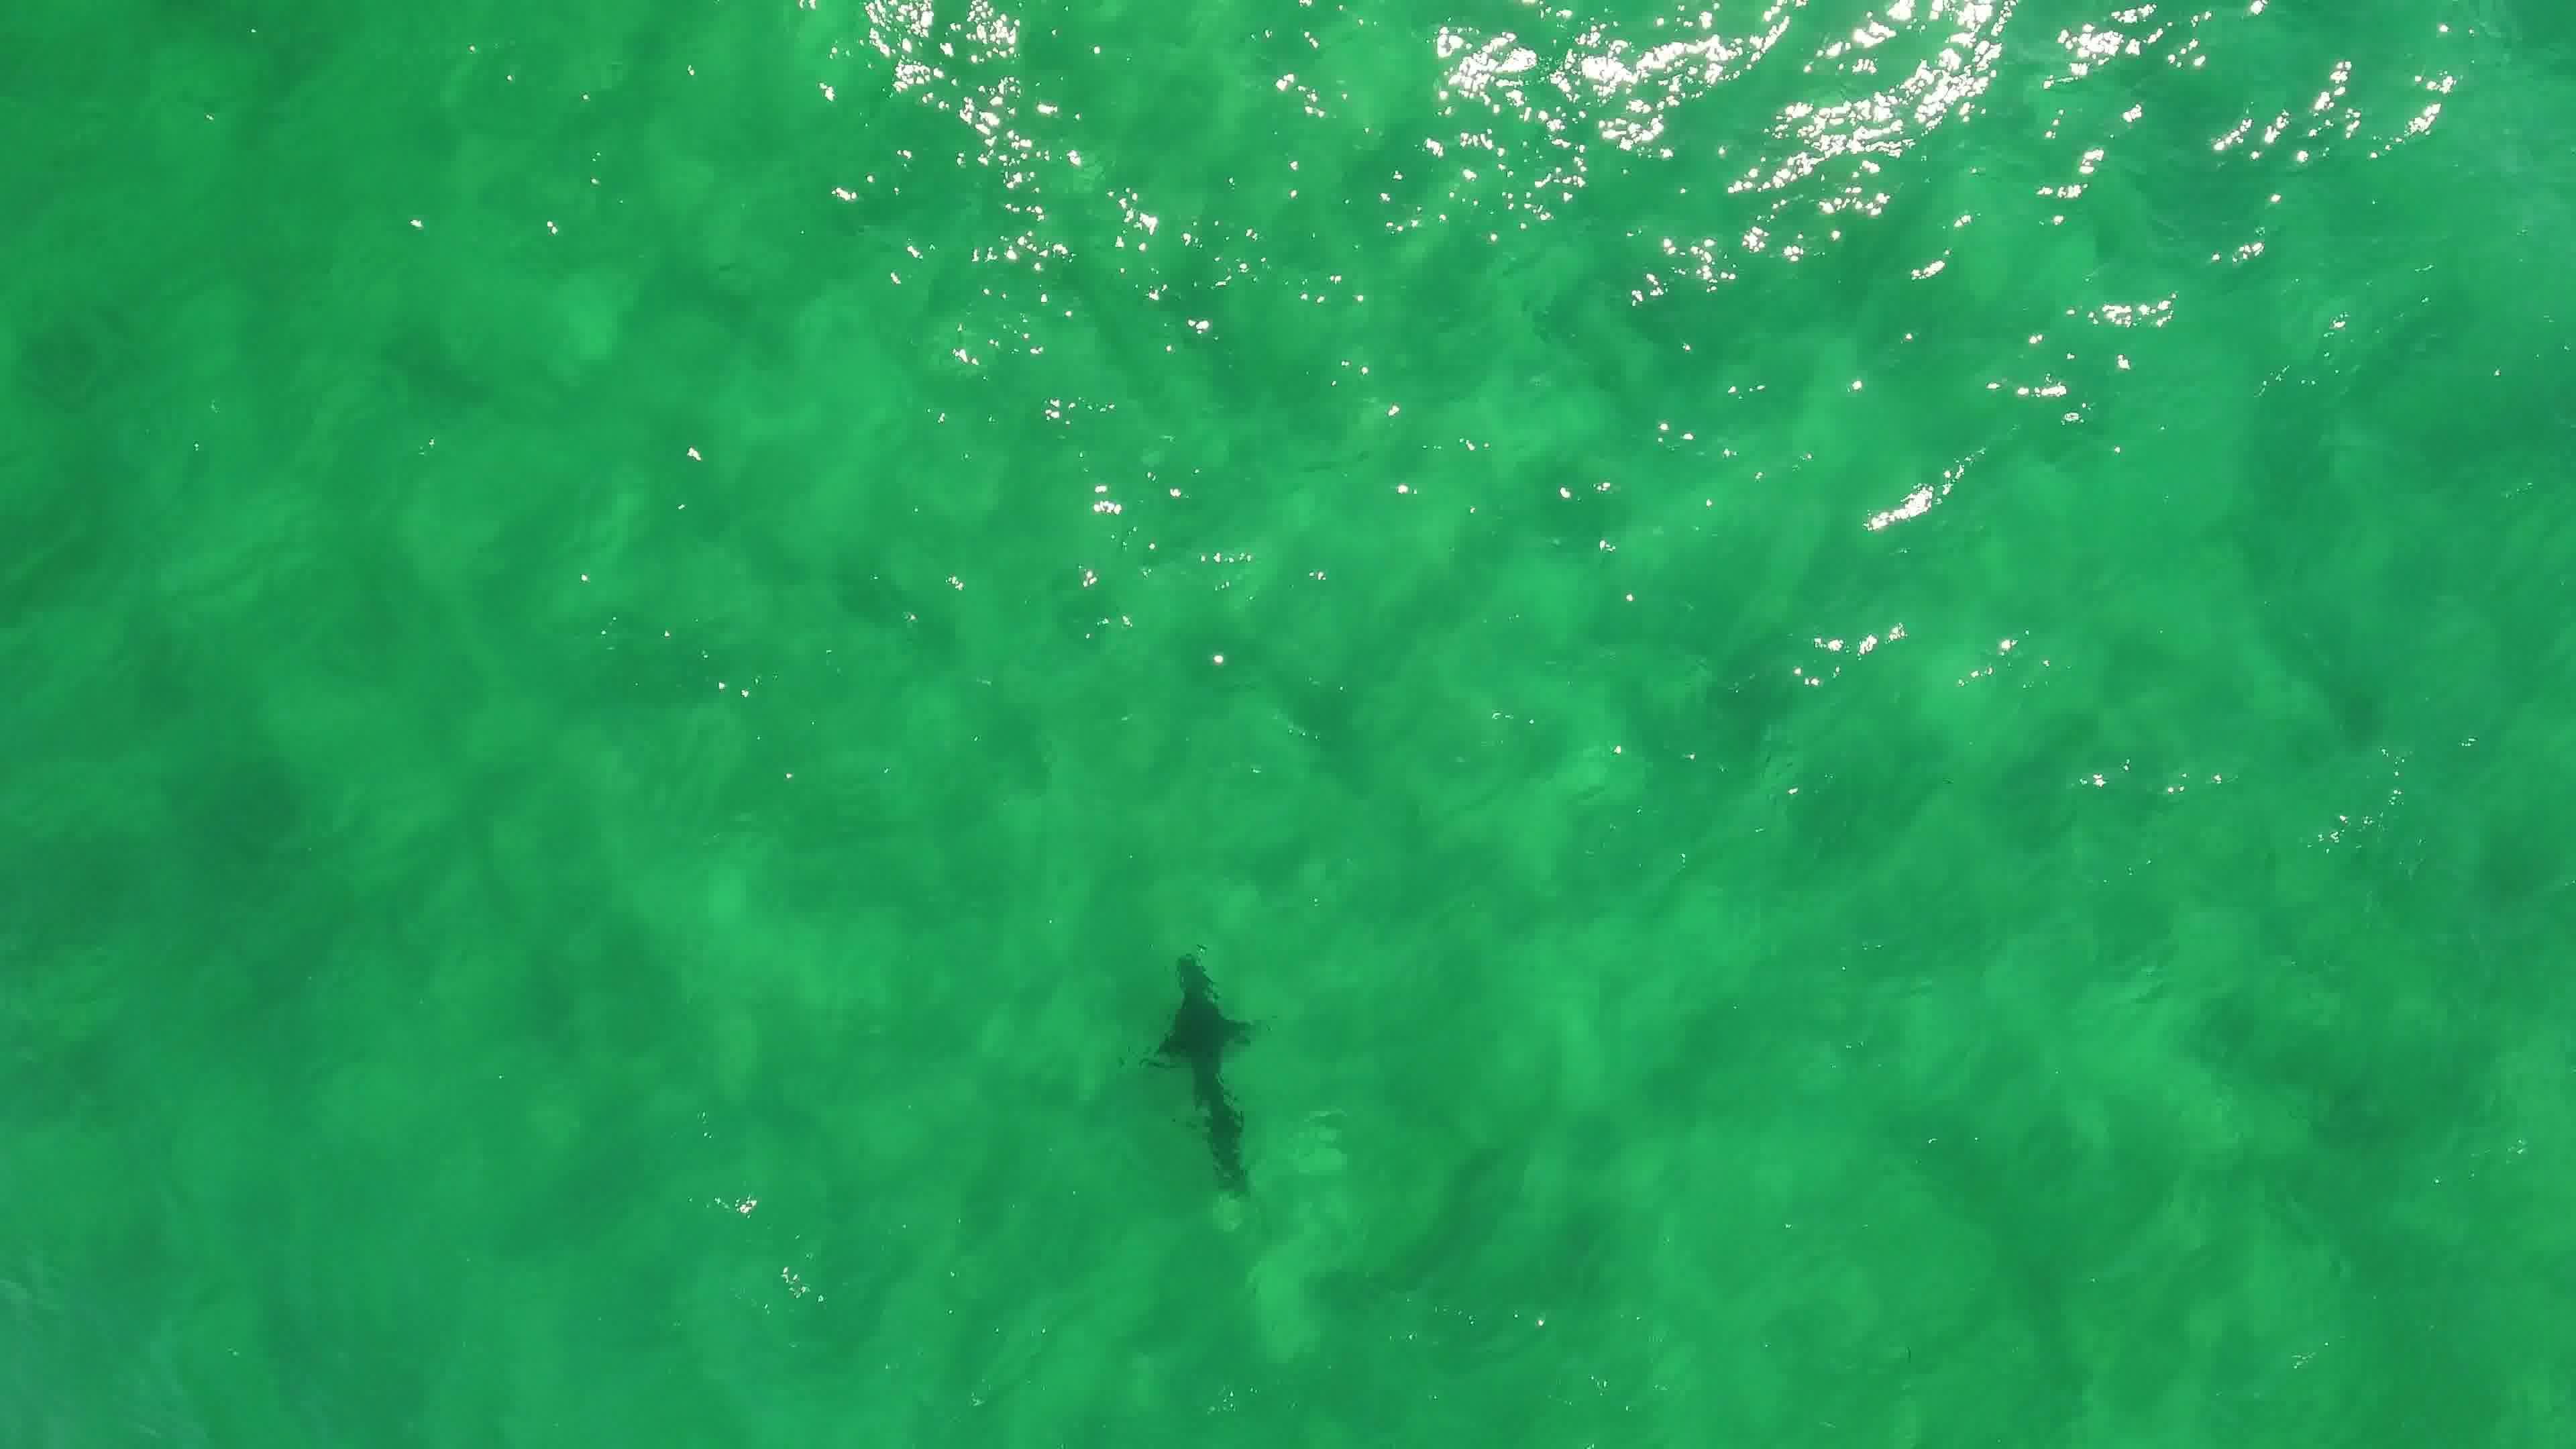shark: (1136, 950, 1272, 1203)
